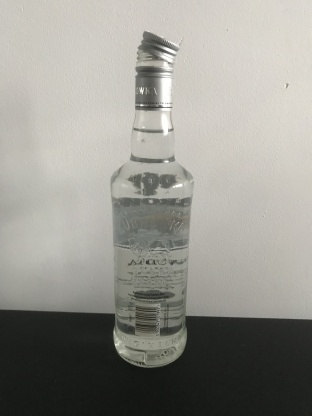nakretka: (133, 28, 180, 113)
